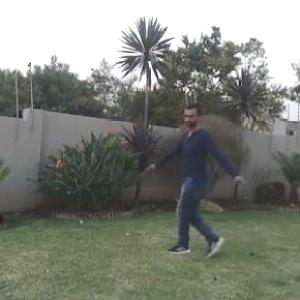land: (140, 89, 256, 279)
